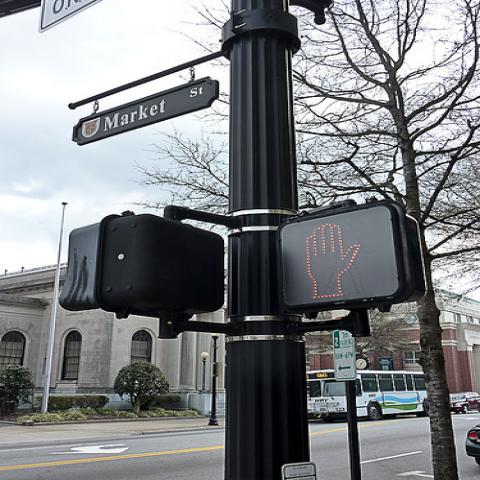bus: (307, 370, 430, 424)
car: (449, 391, 479, 416), (466, 424, 480, 465)
